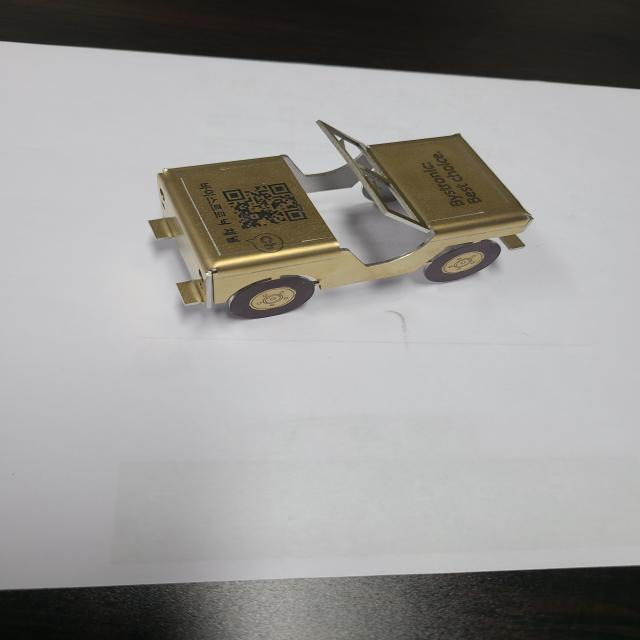tire: (231, 279, 315, 319), (427, 244, 500, 282)
